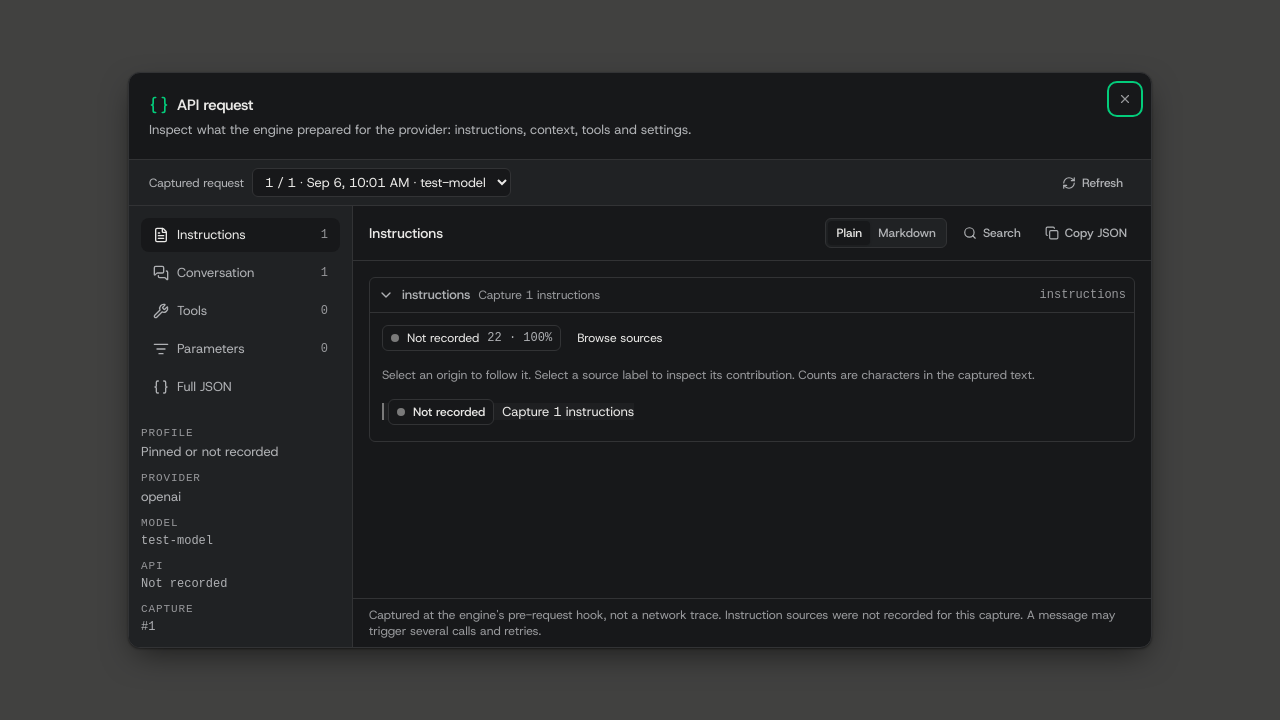
it: keeps a failed re-read beside the capture instead of replacing it
Click the button with aria-label "Refresh captured requests": (1092, 182) [1054, 168, 1131, 196]
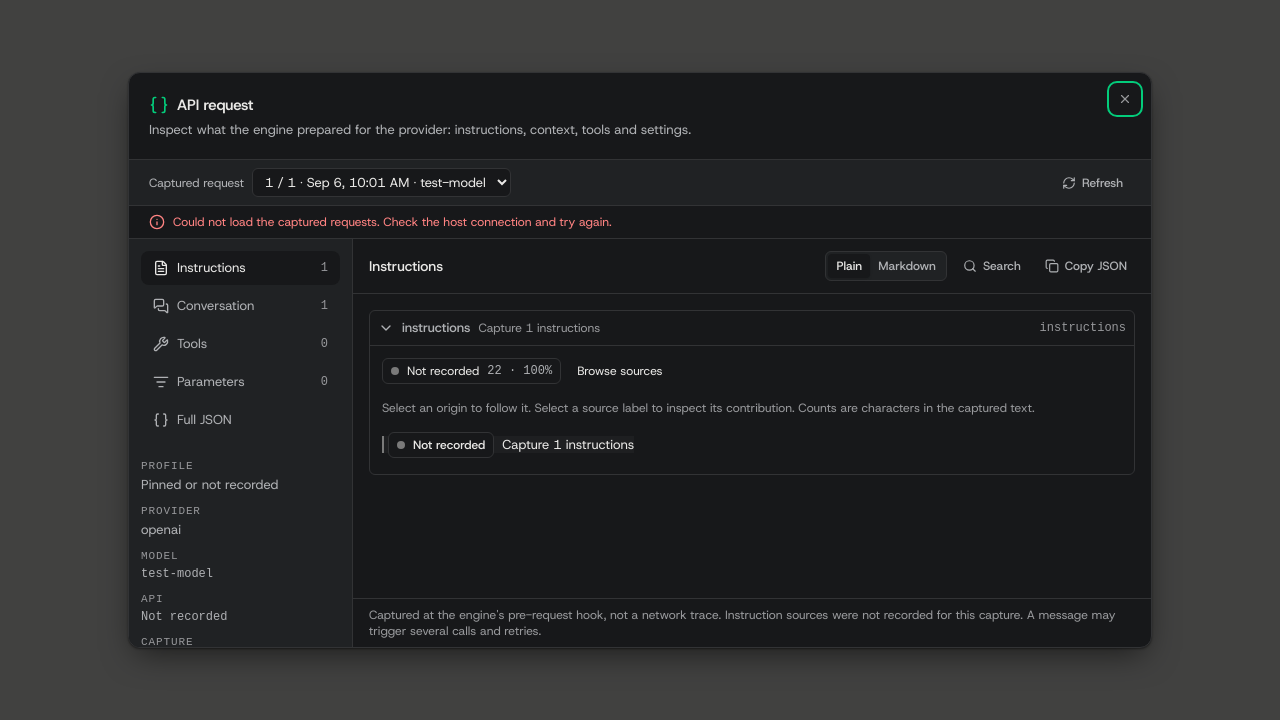
Expected: the text "Capture 1 instructions" is shown, [478, 320, 600, 336]
Now the message "Could not load the captured requests. Check the host connection and try again." is shown, box [129, 206, 1151, 239]
